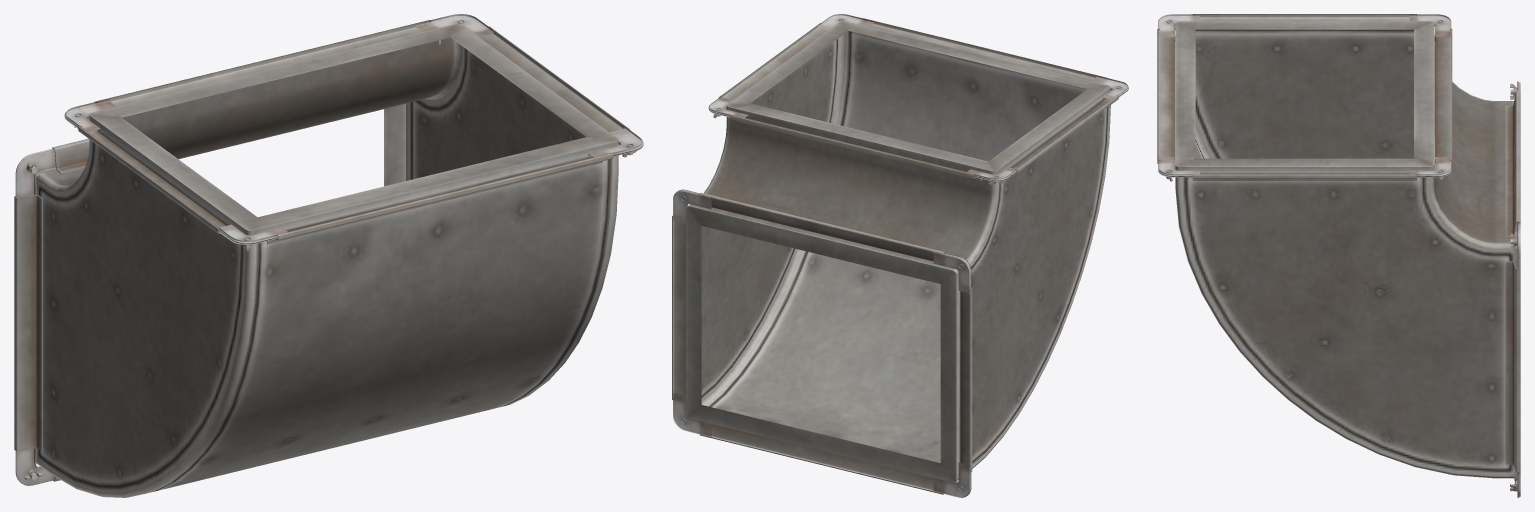
File: round-up.glb
3 views of the same model, side by side, from view 1: azimuth 30°, elevation 25°; view 2: azimuth 150°, elevation 25°; view 3: azimuth 270°, elevation 25° (orthographic). The views are drawn at different scales.
Visible parts, largest first — view 1: modular_airduct_rectangular_01_bend_01; view 2: modular_airduct_rectangular_01_bend_01; view 3: modular_airduct_rectangular_01_bend_01.
Part boxes in pixels (x1,y1,x2,y2): modular_airduct_rectangular_01_bend_01: (14,14,643,497); modular_airduct_rectangular_01_bend_01: (672,14,1128,497); modular_airduct_rectangular_01_bend_01: (1157,14,1520,497).
Bounding box in the file's own units: 0.6634 × 0.6314 × 0.6314.
Materials: 1 (1 with a texture image).
